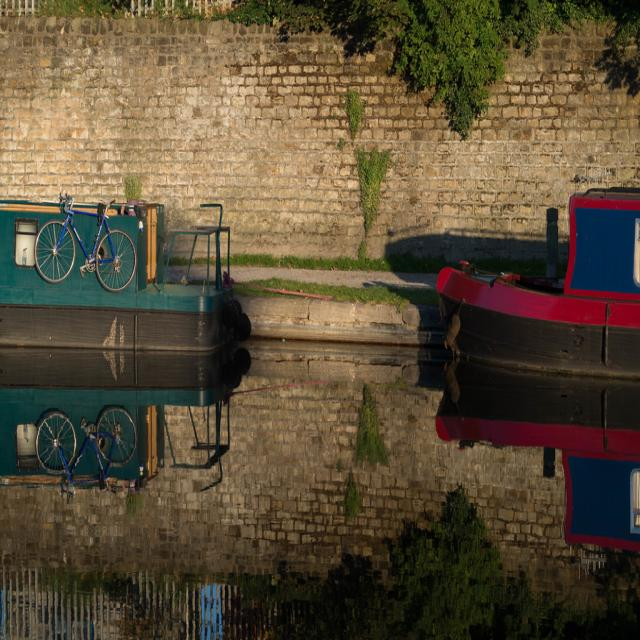Boat: (437, 190, 639, 379), (0, 194, 236, 354)
